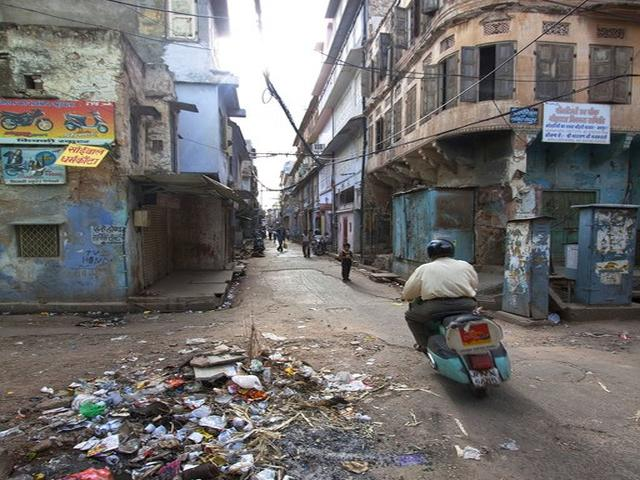garbage: (107, 367, 367, 478)
